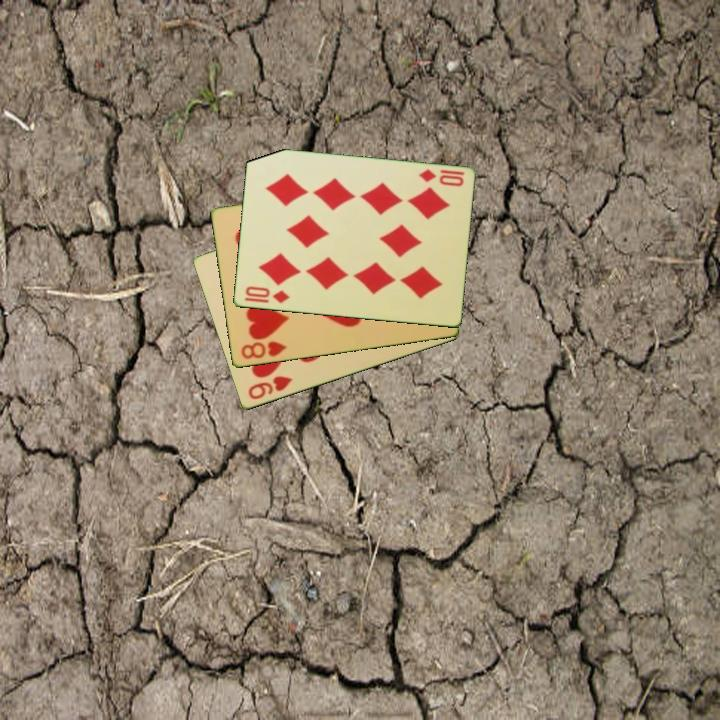10d: (241, 283, 292, 307), (415, 166, 467, 189)
8h: (237, 338, 289, 362)
9h: (244, 372, 295, 403)
